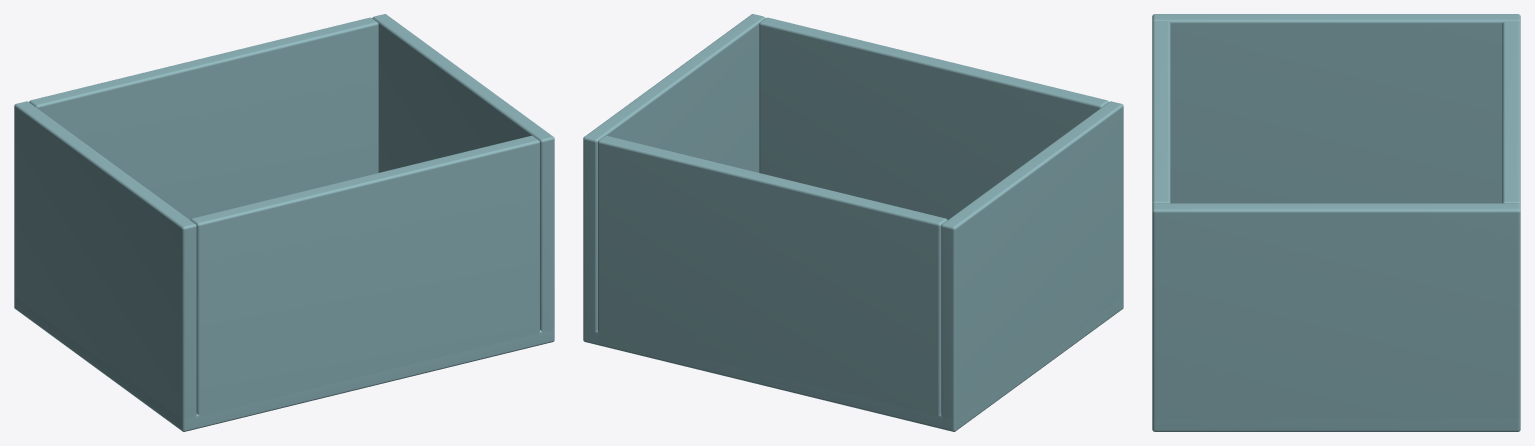
File: BASKET.glb
The picture shows the model from 3 angles, left to right: view 1: azimuth 30°, elevation 25°; view 2: azimuth 150°, elevation 25°; view 3: azimuth 270°, elevation 25°; orthographic projection. The views are drawn at different scales.
Visible parts, largest first — view 1: BASKET/0003_panel, BASKET/0004_panel, BASKET/0001_panel, BASKET/0002_panel, BASKET/0000_panel; view 2: BASKET/0004_panel, BASKET/0003_panel, BASKET/0001_panel, BASKET/0002_panel, BASKET/0000_panel; view 3: BASKET/0002_panel, BASKET/0001_panel, BASKET/0000_panel, BASKET/0003_panel, BASKET/0004_panel.
Part boxes in pixels (x1,y1,x2,y2): BASKET/0003_panel: (190, 135, 539, 426); BASKET/0004_panel: (29, 17, 378, 219); BASKET/0001_panel: (14, 101, 196, 430); BASKET/0002_panel: (372, 14, 554, 343); BASKET/0000_panel: (14, 297, 554, 431); BASKET/0004_panel: (598, 135, 947, 427); BASKET/0003_panel: (759, 17, 1108, 219); BASKET/0001_panel: (941, 101, 1123, 430); BASKET/0002_panel: (583, 14, 765, 343); BASKET/0000_panel: (583, 297, 1123, 431); BASKET/0002_panel: (1152, 203, 1520, 430); BASKET/0001_panel: (1152, 14, 1520, 203); BASKET/0000_panel: (1152, 418, 1520, 431); BASKET/0003_panel: (1152, 21, 1170, 204); BASKET/0004_panel: (1502, 21, 1520, 204).
Bounding box in the file's own units: 0.38 × 0.2 × 0.3.
